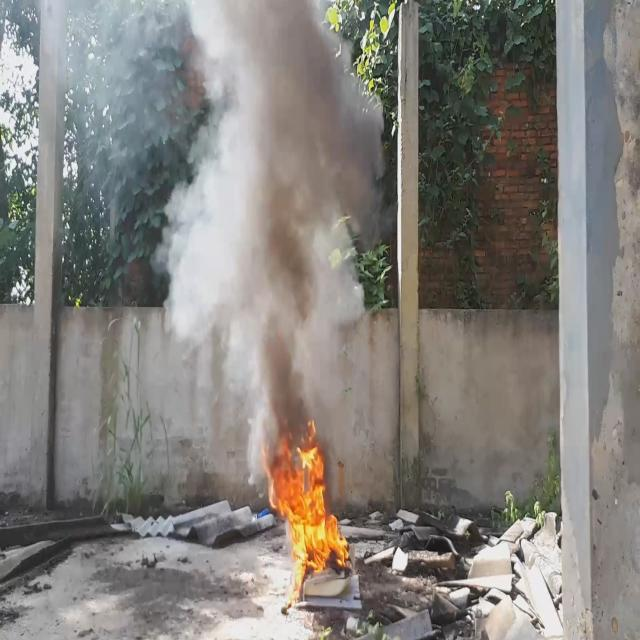Fire: (266, 414, 352, 606)
Smoke: (146, 0, 390, 499)
